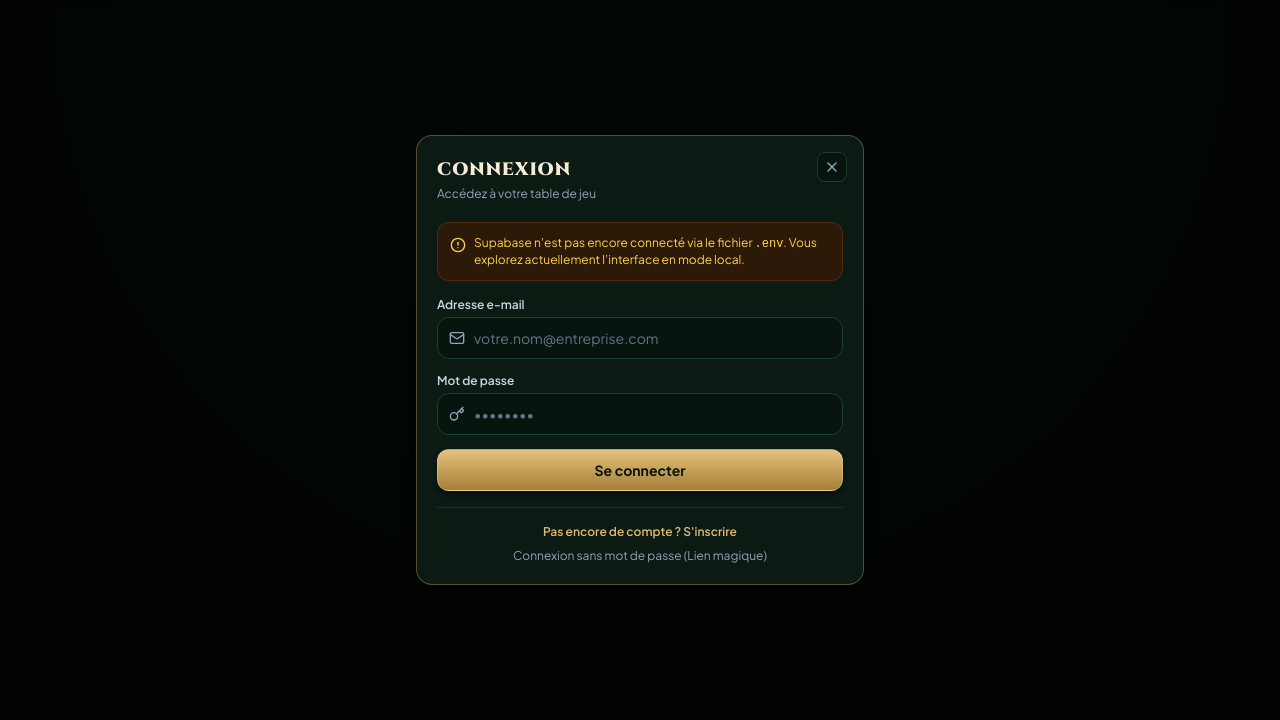
Test: AuthModal - Authentification › bascule vers le mode inscription au clic sur le lien
The width and height of the screenshot is (1280, 720).
Click the button "Pas encore de compte ? S'inscrire" at [640, 532], box [437, 524, 843, 540]
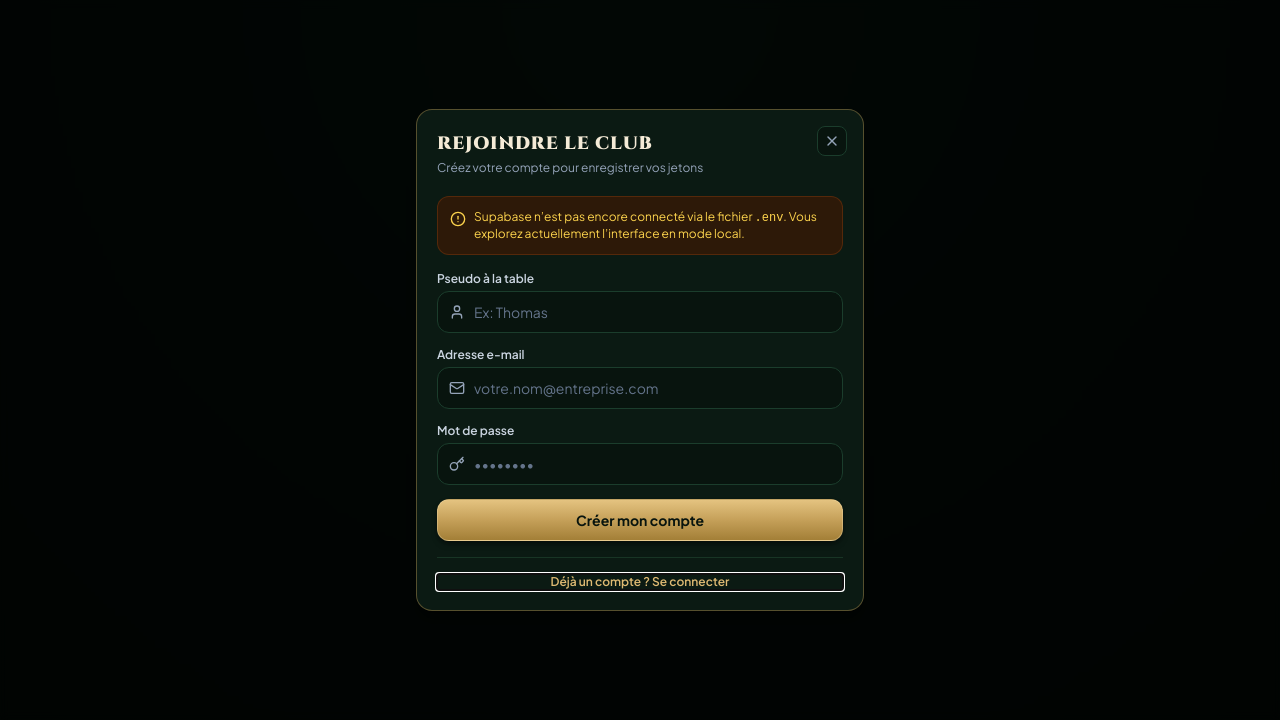
Check: the text "Rejoindre le Club" is shown, box [437, 131, 653, 156]
Check: the field labelled "Pseudo à la table" is shown, box [437, 291, 843, 333]
